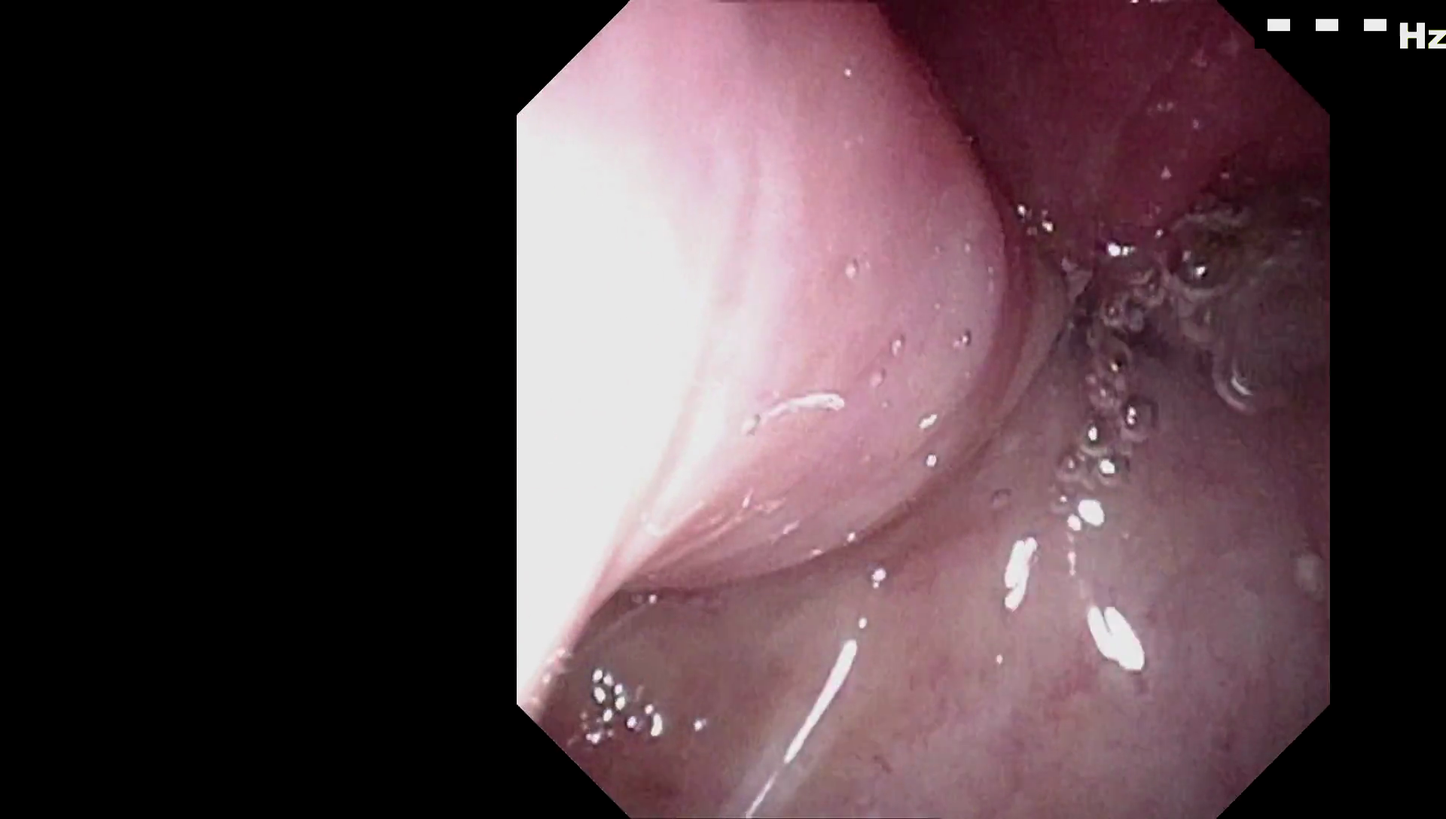close_wall: (527, 119, 845, 692)
